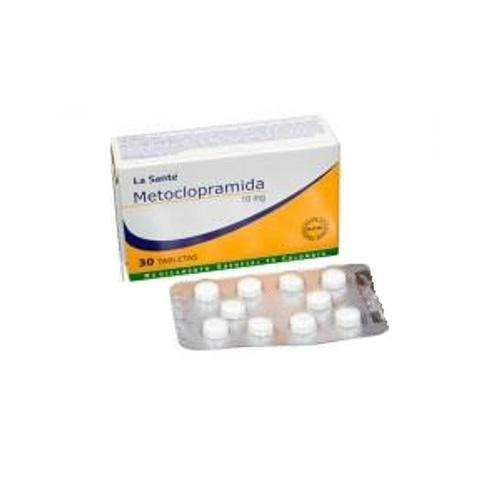LaSante: (121, 152, 340, 274)
